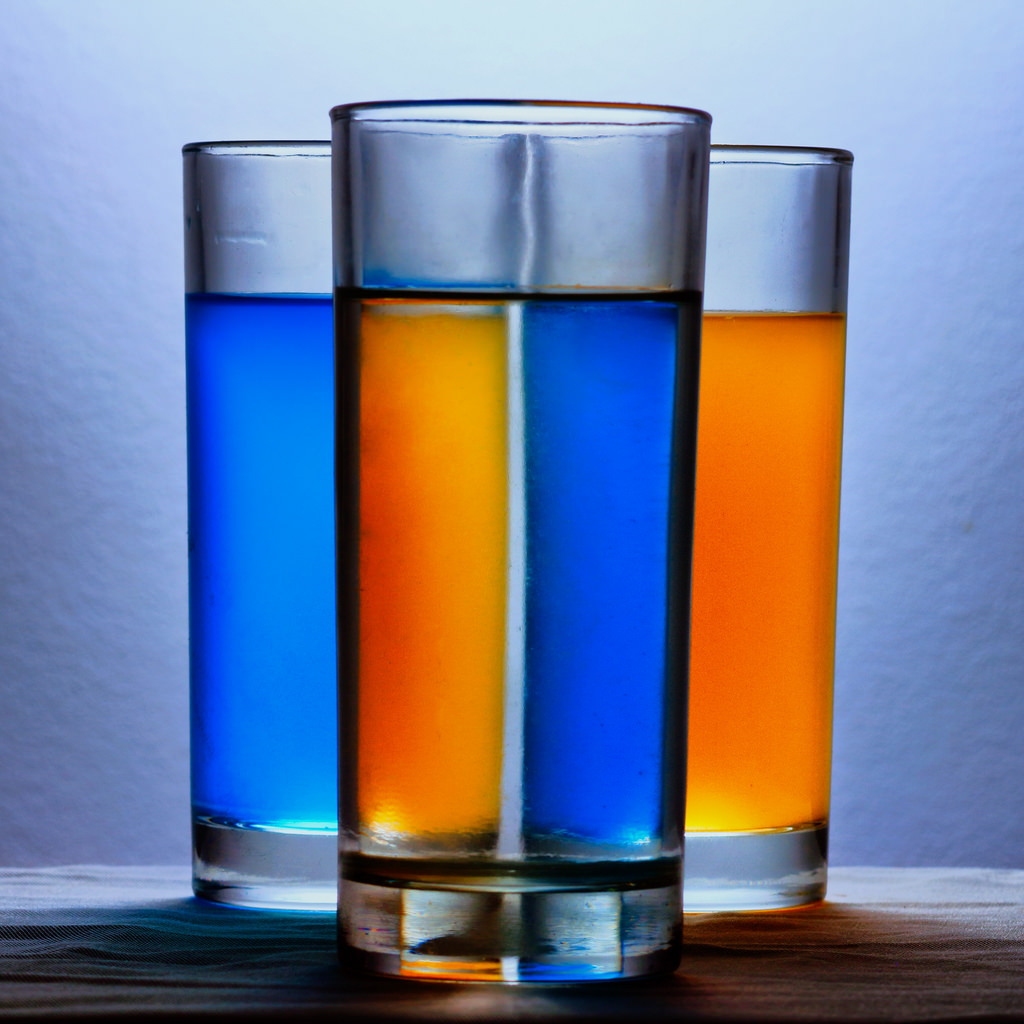glass of water: (306, 47, 725, 994)
